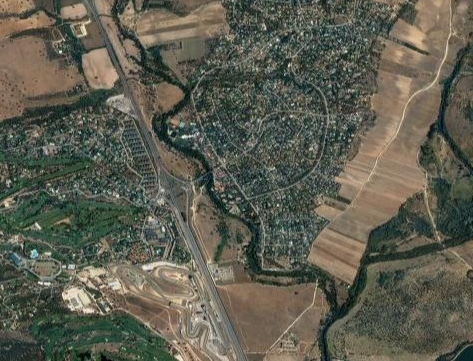motorway: (123, 139, 232, 283), (67, 1, 176, 144), (192, 284, 254, 361)
